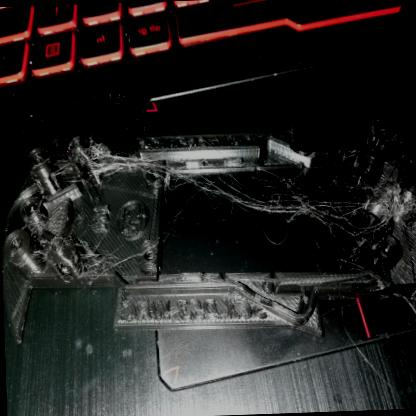fail: (176, 171, 362, 251), (76, 249, 125, 279), (378, 182, 416, 219)
